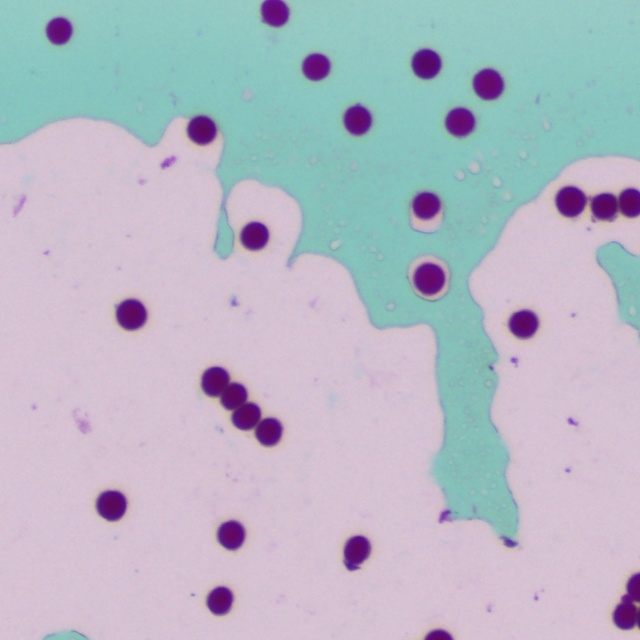viable: (202, 367, 282, 445), (408, 256, 449, 301), (614, 573, 639, 629), (410, 192, 443, 233), (474, 69, 504, 100), (116, 299, 146, 330), (97, 491, 127, 521), (344, 536, 370, 570), (412, 49, 441, 79), (556, 187, 586, 216), (446, 108, 475, 137), (344, 105, 371, 135), (188, 116, 216, 144), (509, 311, 538, 338), (202, 367, 229, 396), (241, 222, 268, 250), (218, 521, 244, 550), (303, 54, 330, 80), (261, 1, 289, 26), (256, 419, 282, 445), (208, 587, 233, 614), (233, 404, 260, 429), (47, 18, 72, 44), (592, 194, 617, 219), (222, 384, 246, 409), (620, 189, 639, 216), (426, 630, 452, 639)
